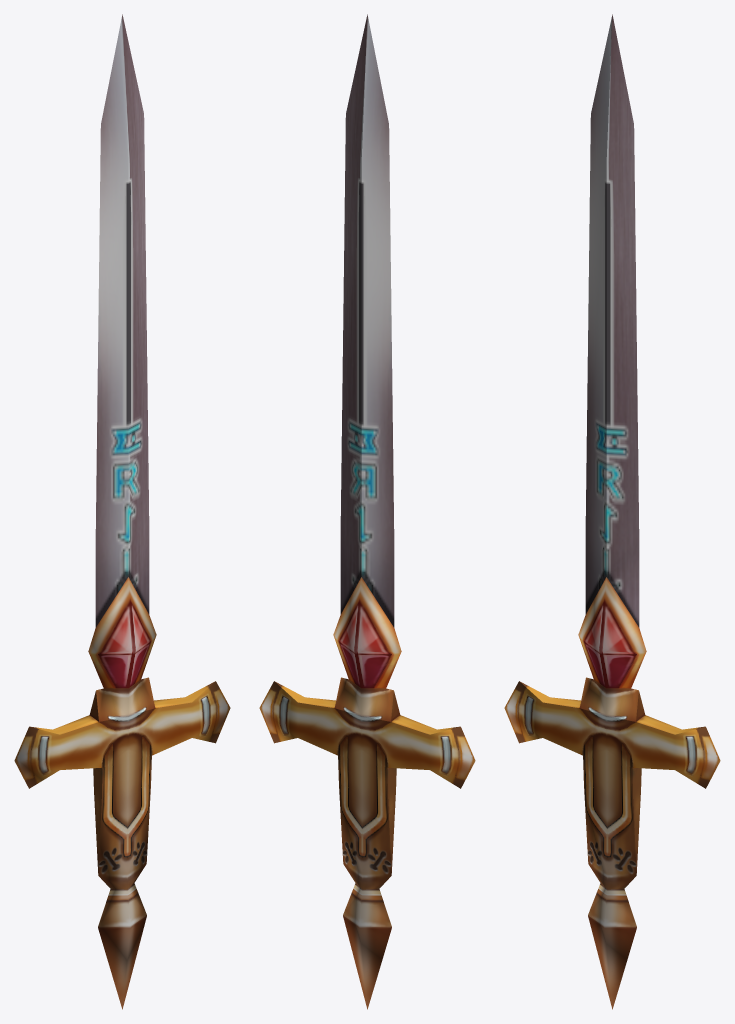
File: sword_05.FBX
3 views of the same model, side by side, from view 1: azimuth 30°, elevation 25°; view 2: azimuth 150°, elevation 25°; view 3: azimuth 330°, elevation 25° (orthographic).
Parts seen in each view (by area): view 1: Sword; view 2: Sword; view 3: Sword.
Boxes of the visible parts, <box> form: Sword: <box>14,14,230,1009</box>; Sword: <box>259,14,475,1009</box>; Sword: <box>504,14,720,1009</box>.
Bounding box in the file's own units: 15.31 × 67.39 × 3.02.
